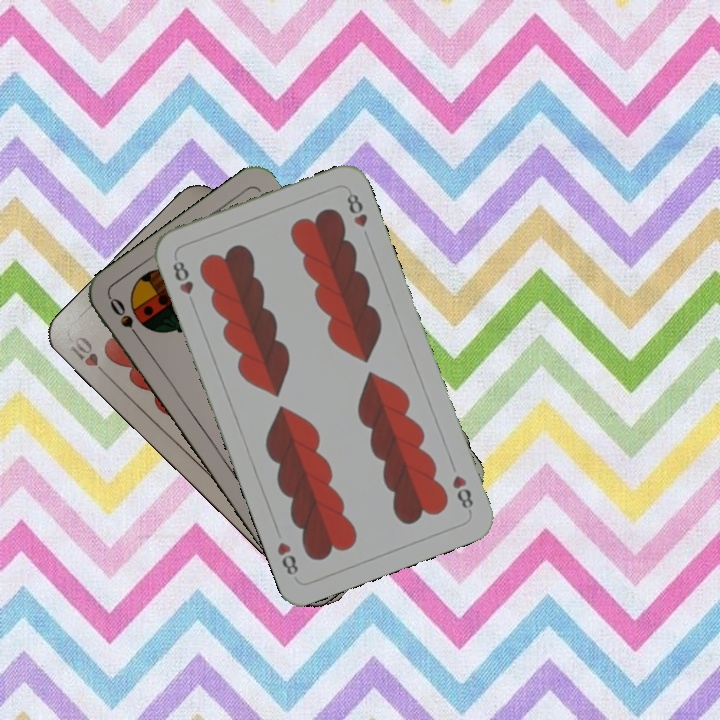H10: (65, 332, 113, 382)
H8: (168, 257, 198, 310), (448, 471, 476, 516)
SO: (105, 293, 146, 346)
